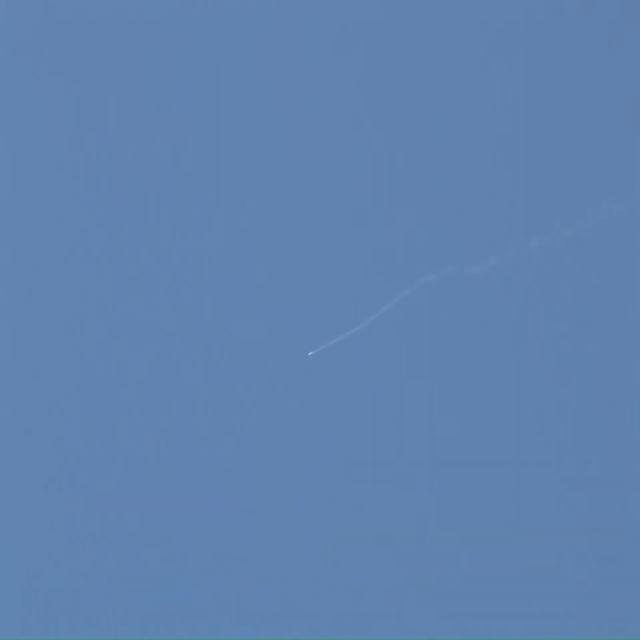Rocket: (308, 353, 312, 356)
